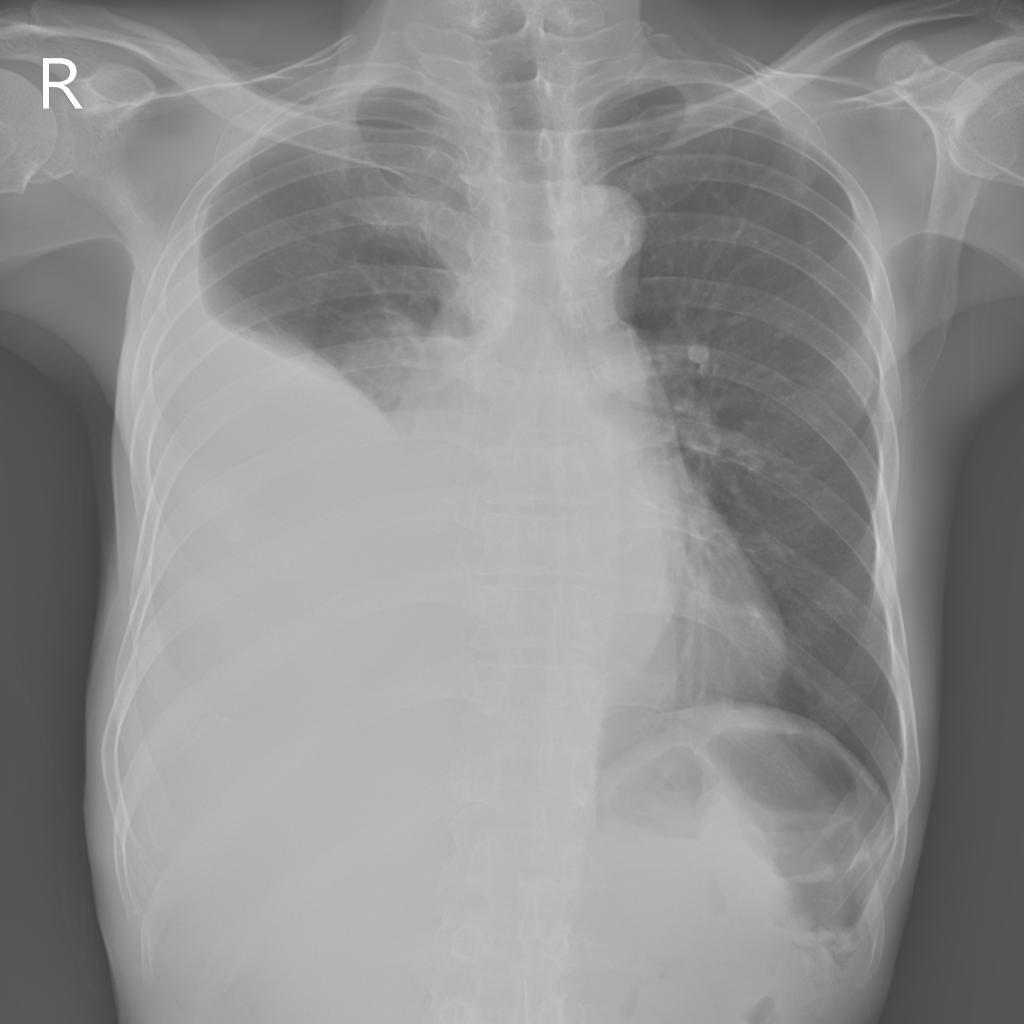Nodule: (322, 305, 424, 411)
